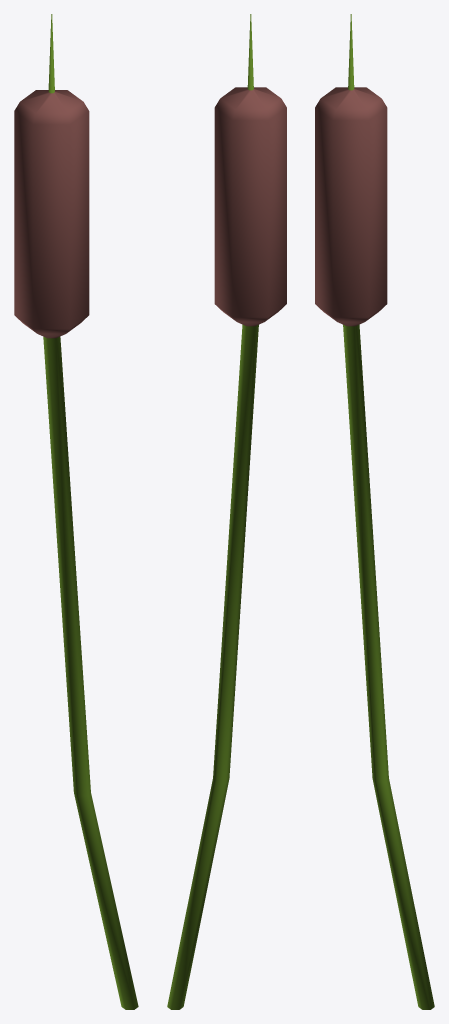
The model's file is JuncoMedio.fbx.
3 views of the same model, side by side, from view 1: azimuth 30°, elevation 25°; view 2: azimuth 210°, elevation 25°; view 3: azimuth 330°, elevation 25° (orthographic). The views are drawn at different scales.
Parts seen in each view (by area): view 1: JuncoMedio; view 2: JuncoMedio; view 3: JuncoMedio.
Boxes of the visible parts, x1,y1,x2,y2 form: JuncoMedio: (14, 14, 138, 1009); JuncoMedio: (167, 14, 286, 1009); JuncoMedio: (315, 14, 434, 1009).
Bounding box in the file's own units: 0.1039 × 0.8907 × 0.0597.
